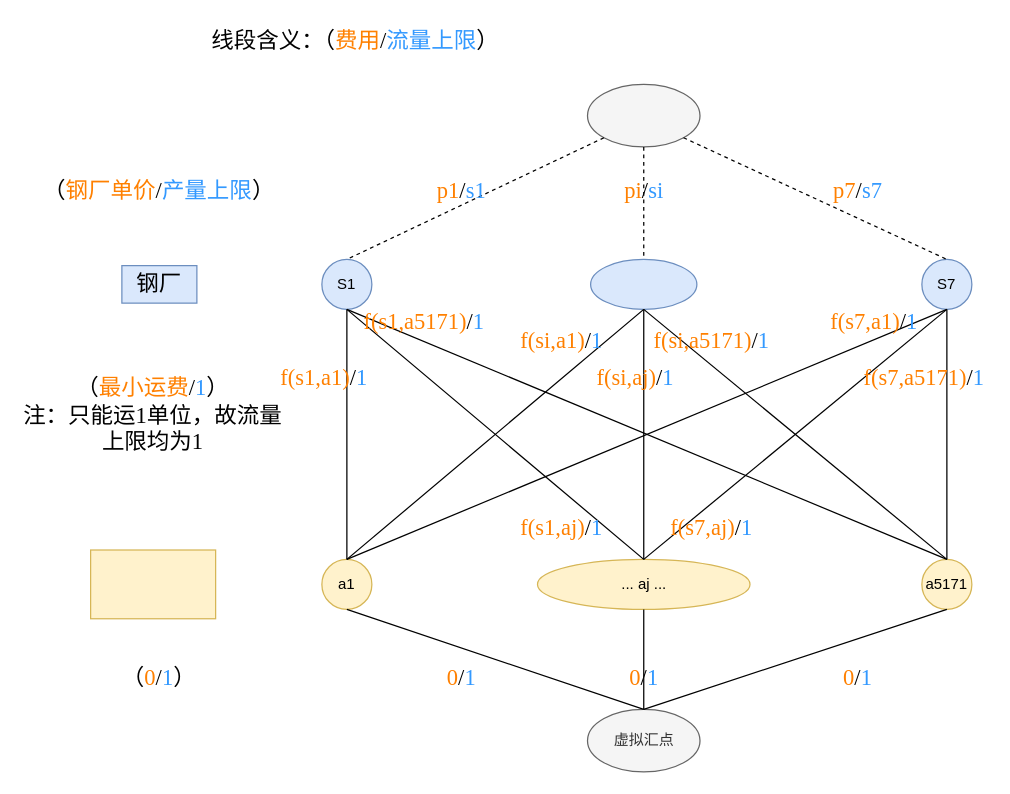
This 1010x794 diagram has some shape labels left out. The centre of each missing label's shape, as x and y in pixels:
"... Si ..." belongs at [643,283].
"管道上 各段" belongs at [152,584].
"虚拟源点" belongs at [643,115].
